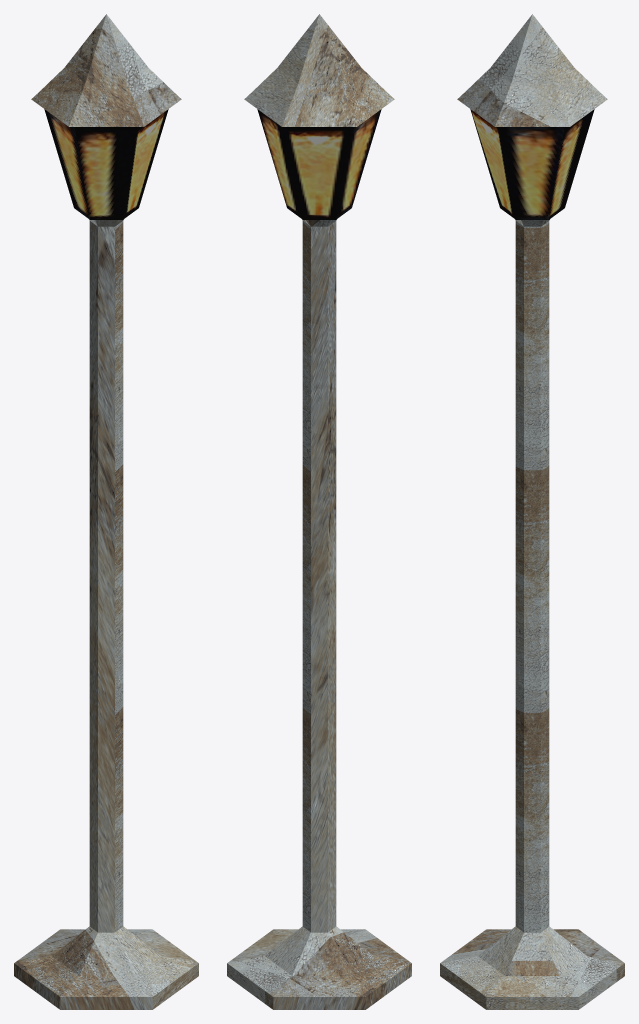
The model's file is Lantern.fbx.
The picture shows the model from 3 angles, left to right: view 1: azimuth 30°, elevation 25°; view 2: azimuth 150°, elevation 25°; view 3: azimuth 270°, elevation 25°; orthographic projection.
Parts seen in each view (by area): view 1: Circle.014; view 2: Circle.014; view 3: Circle.014.
Boxes of the visible parts, x1,y1,x2,y2 form: Circle.014: [14, 14, 198, 1009]; Circle.014: [227, 14, 411, 1009]; Circle.014: [440, 14, 624, 1009].
Bounding box in the file's own units: 54.81 × 364 × 63.28.
2 materials, 2 textured.
